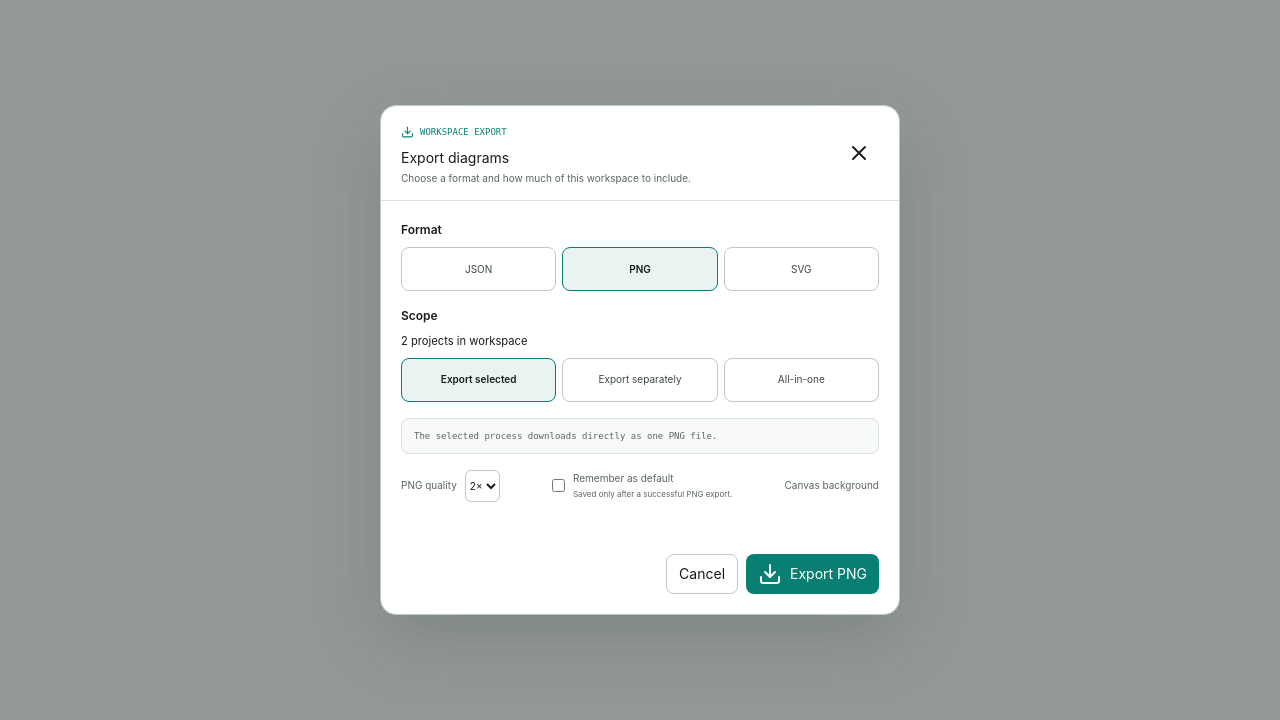
it: archive exports › identifies an unreadable project and does not begin archive encoding
This screenshot has width=1280, height=720.
What coordinates should you click on to do the following:
click the radio button labelled "All-in-one"
I would click on:
 (801, 380)
Its box is [724,358,879,402].
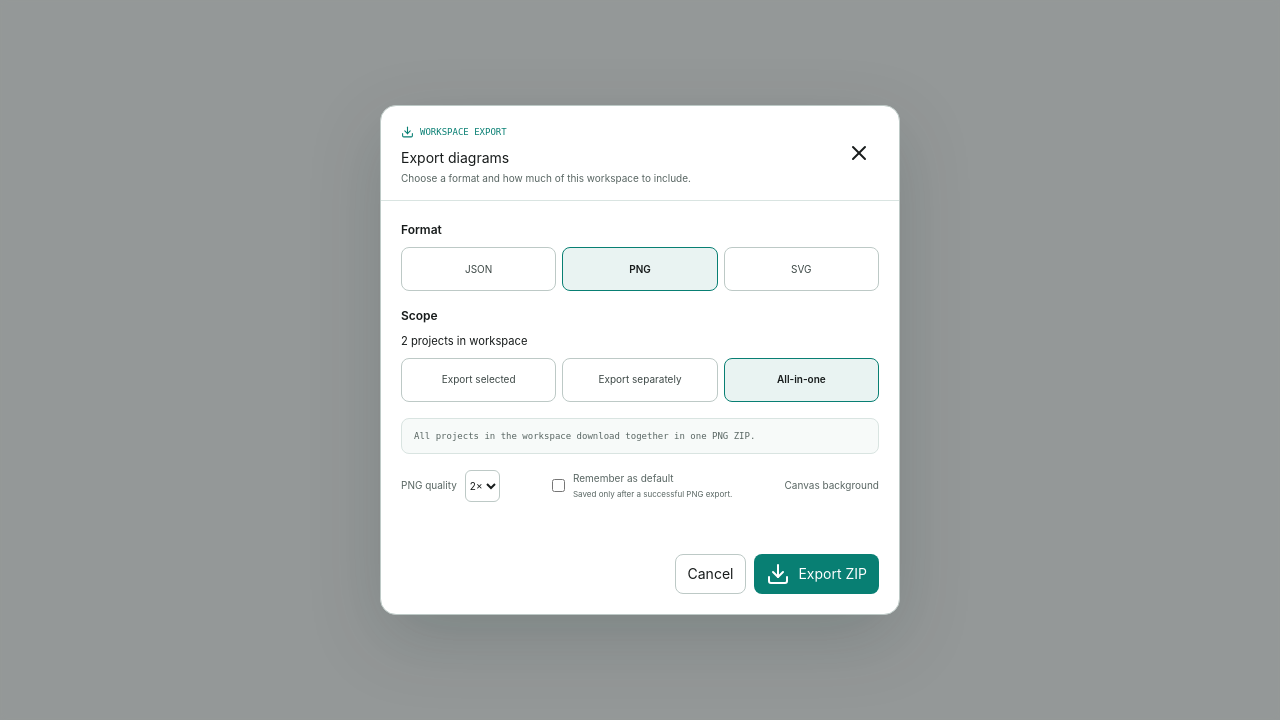
What coordinates should you click on to do the following:
click the button "Export ZIP"
I would click on:
 (817, 574)
Its box is [754,554,879,594].
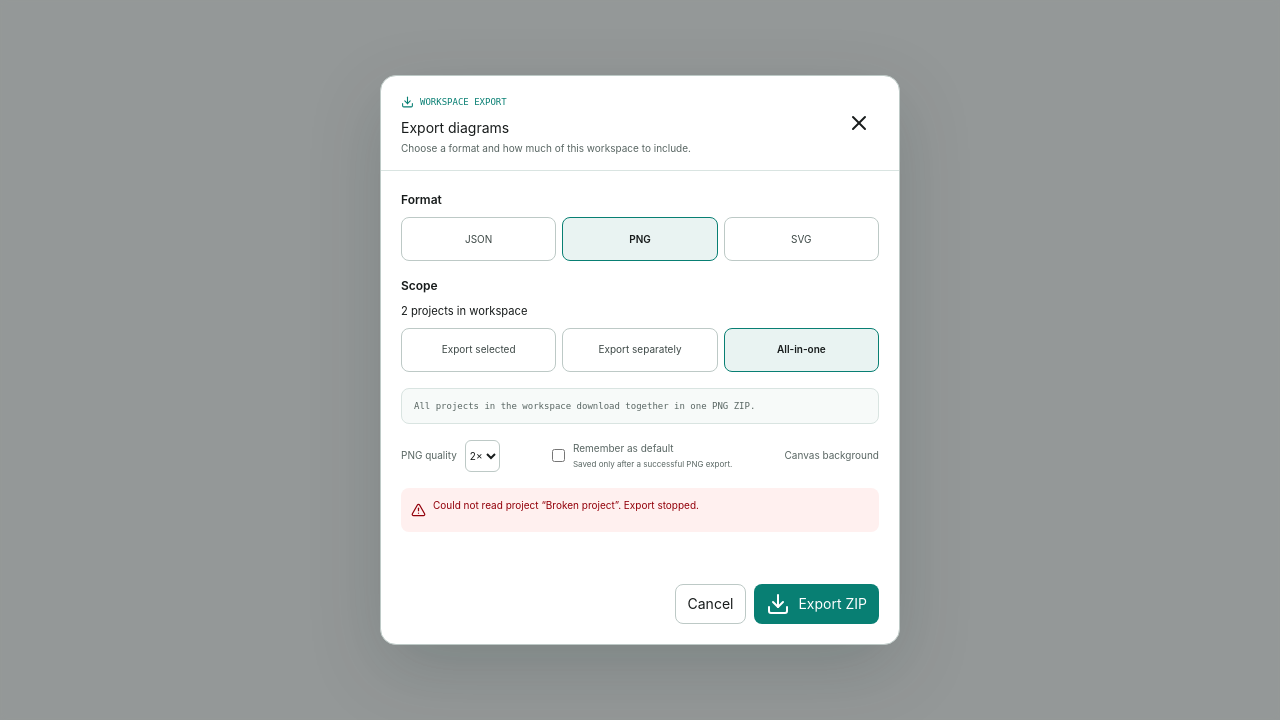
Expected: the message shows "Broken project", [433,499,699,511]
